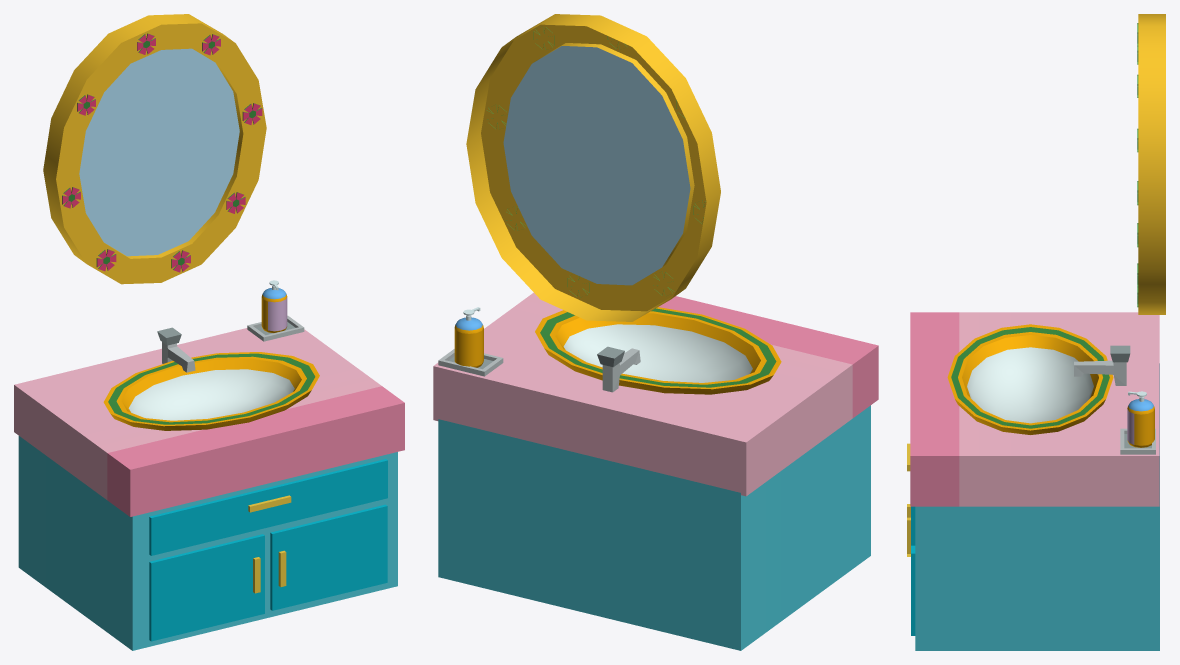
The model's file is MXC_Restroom_SinkFemale_lv3.fbx.
3 views of the same model, side by side, from view 1: azimuth 30°, elevation 25°; view 2: azimuth 150°, elevation 25°; view 3: azimuth 270°, elevation 25° (orthographic). The views are drawn at different scales.
Parts seen in each view (by area): view 1: MXC_Restroom_SinkFemale_lv3; view 2: MXC_Restroom_SinkFemale_lv3; view 3: MXC_Restroom_SinkFemale_lv3.
Boxes of the visible parts, <box> form: MXC_Restroom_SinkFemale_lv3: <box>14,14,404,650</box>; MXC_Restroom_SinkFemale_lv3: <box>433,14,878,650</box>; MXC_Restroom_SinkFemale_lv3: <box>907,14,1165,650</box>.
Size of the model in its own units: 171 by 309 by 130.
